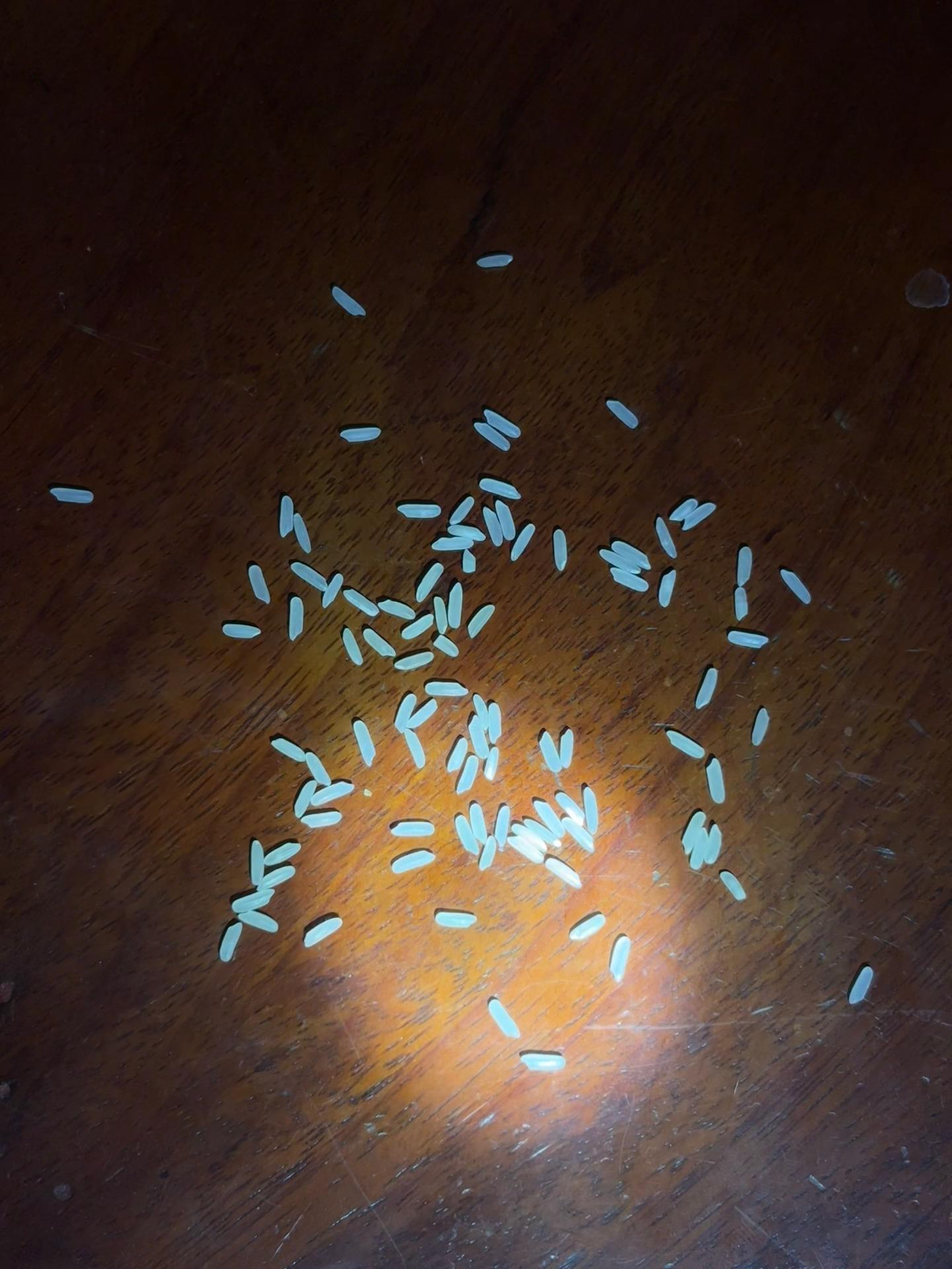Rice-th-y-nh: (488, 1000, 520, 1039), (534, 800, 565, 838), (303, 918, 342, 948), (562, 817, 594, 853), (612, 541, 651, 570), (780, 569, 812, 604), (484, 409, 521, 439), (416, 563, 444, 602), (667, 731, 706, 759), (546, 859, 582, 889), (474, 422, 511, 451), (507, 835, 544, 864), (353, 720, 376, 766), (291, 563, 328, 591), (523, 819, 560, 847), (311, 782, 354, 806), (232, 889, 275, 913), (332, 287, 366, 317), (555, 792, 585, 826), (467, 715, 490, 759), (392, 850, 435, 873), (681, 812, 705, 853), (695, 668, 719, 709), (510, 524, 536, 561), (654, 518, 678, 558), (219, 922, 243, 962), (606, 399, 639, 428), (682, 503, 716, 531), (849, 967, 874, 1005), (238, 910, 279, 933), (599, 550, 640, 573), (455, 816, 479, 855), (609, 568, 648, 592), (257, 866, 296, 890), (407, 699, 438, 729), (363, 629, 396, 657), (467, 605, 495, 638), (539, 733, 562, 773), (610, 937, 630, 983), (305, 752, 332, 786), (344, 589, 378, 616), (456, 756, 480, 794), (689, 828, 710, 871), (468, 803, 490, 844), (570, 915, 606, 940), (515, 824, 547, 852), (582, 787, 601, 834), (294, 780, 317, 818), (394, 694, 416, 733), (404, 728, 426, 767), (264, 843, 301, 866), (277, 496, 297, 538), (248, 565, 270, 603), (480, 479, 521, 499), (495, 500, 516, 539), (494, 805, 512, 850), (704, 824, 724, 864), (401, 615, 434, 639), (707, 759, 725, 803), (720, 871, 746, 901), (483, 507, 503, 546), (447, 583, 464, 628), (751, 708, 771, 746), (486, 703, 505, 743), (342, 629, 363, 665), (50, 487, 94, 504), (521, 1053, 565, 1070), (395, 652, 434, 671), (447, 738, 468, 773), (288, 597, 305, 640), (391, 821, 434, 838), (272, 739, 305, 761), (293, 515, 312, 553), (448, 523, 486, 542), (379, 600, 415, 620), (249, 840, 265, 885), (322, 574, 343, 608), (449, 497, 474, 525), (425, 681, 468, 697), (728, 631, 768, 648), (479, 836, 498, 871), (736, 547, 753, 586), (432, 536, 473, 552), (435, 912, 476, 928), (301, 812, 342, 828), (398, 504, 440, 519), (659, 570, 676, 607), (559, 729, 575, 768), (670, 499, 697, 522), (553, 529, 568, 570), (472, 694, 490, 728), (433, 597, 449, 633), (434, 635, 459, 657), (223, 624, 260, 638), (476, 254, 513, 268), (485, 747, 500, 781), (341, 428, 380, 441), (734, 587, 749, 620), (461, 550, 477, 573)
